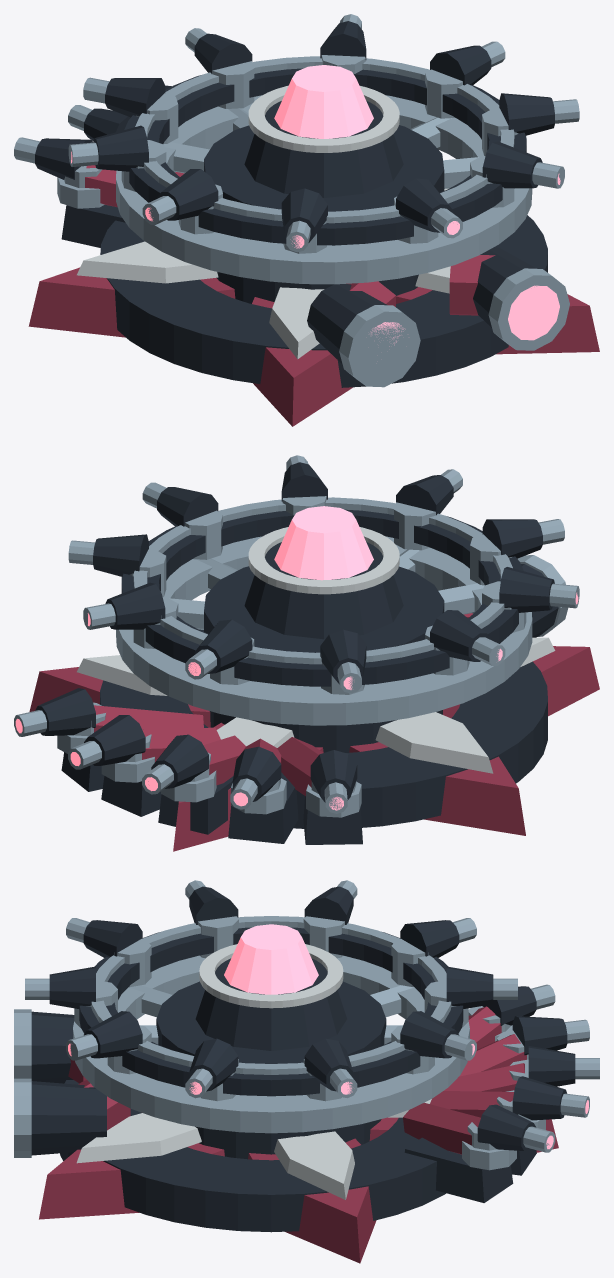
File: boss.glb
3 views of the same model, one above another, from view 1: azimuth 30°, elevation 25°; view 2: azimuth 150°, elevation 25°; view 3: azimuth 270°, elevation 25° (orthographic). The views are drawn at different scales.
Parts seen in each view (by area): view 1: boss / Chassis, boss / Titanium, ring_rotor / Chassis, ring_rotor / Titanium, boss / Armor, boss / Identification, boss / Energy; view 2: boss / Chassis, boss / Titanium, ring_rotor / Chassis, ring_rotor / Titanium, boss / Armor, boss / Identification, boss / Energy; view 3: boss / Chassis, boss / Titanium, ring_rotor / Chassis, boss / Armor, ring_rotor / Titanium, boss / Identification, boss / Energy.
Boxes of the visible parts, <box> form: boss / Chassis: <box>35,85,547,387</box>; boss / Titanium: <box>14,95,569,387</box>; ring_rotor / Chassis: <box>93,21,554,245</box>; ring_rotor / Titanium: <box>68,14,579,253</box>; boss / Armor: <box>28,165,599,426</box>; boss / Identification: <box>77,85,450,359</box>; boss / Energy: <box>274,65,559,346</box>; boss / Chassis: <box>35,542,558,844</box>; boss / Titanium: <box>14,536,568,817</box>; ring_rotor / Chassis: <box>93,462,554,686</box>; ring_rotor / Titanium: <box>68,455,579,694</box>; boss / Armor: <box>29,613,599,851</box>; boss / Identification: <box>77,527,555,773</box>; boss / Energy: <box>15,506,373,810</box>; boss / Chassis: <box>31,958,575,1232</box>; boss / Titanium: <box>14,955,599,1170</box>; ring_rotor / Chassis: <box>49,886,493,1096</box>; boss / Armor: <box>39,1006,558,1263</box>; ring_rotor / Titanium: <box>25,880,517,1101</box>; boss / Identification: <box>76,944,431,1199</box>; boss / Energy: <box>224,924,588,1149</box>.
Size of the model in its own units: 2 by 0.85 by 2.14.
